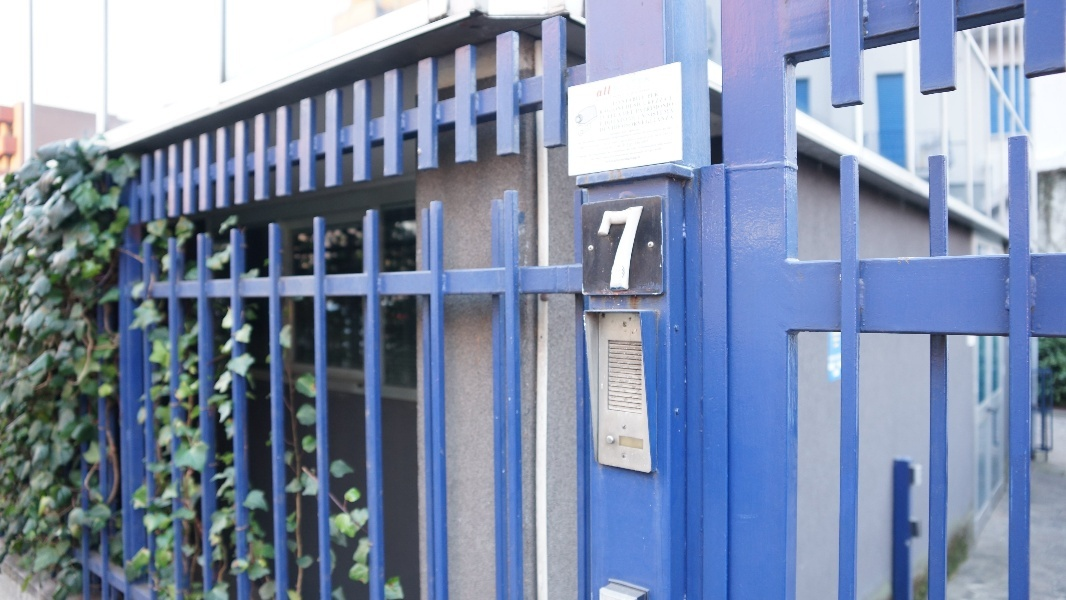text: (609, 205, 624, 293), (625, 205, 640, 293), (597, 205, 608, 293), (609, 89, 624, 134), (625, 89, 640, 134), (641, 89, 656, 134), (657, 89, 672, 134), (641, 205, 646, 293), (599, 89, 608, 134), (657, 127, 673, 142), (609, 127, 624, 142), (625, 127, 640, 142), (641, 127, 656, 142), (609, 88, 624, 102), (625, 88, 640, 102), (625, 131, 640, 144), (641, 131, 656, 144), (657, 131, 672, 144), (597, 88, 608, 102), (598, 127, 608, 142), (641, 88, 651, 102), (598, 85, 608, 98), (625, 129, 639, 136), (611, 129, 624, 136), (673, 89, 675, 134), (609, 85, 612, 98), (622, 131, 624, 144)
